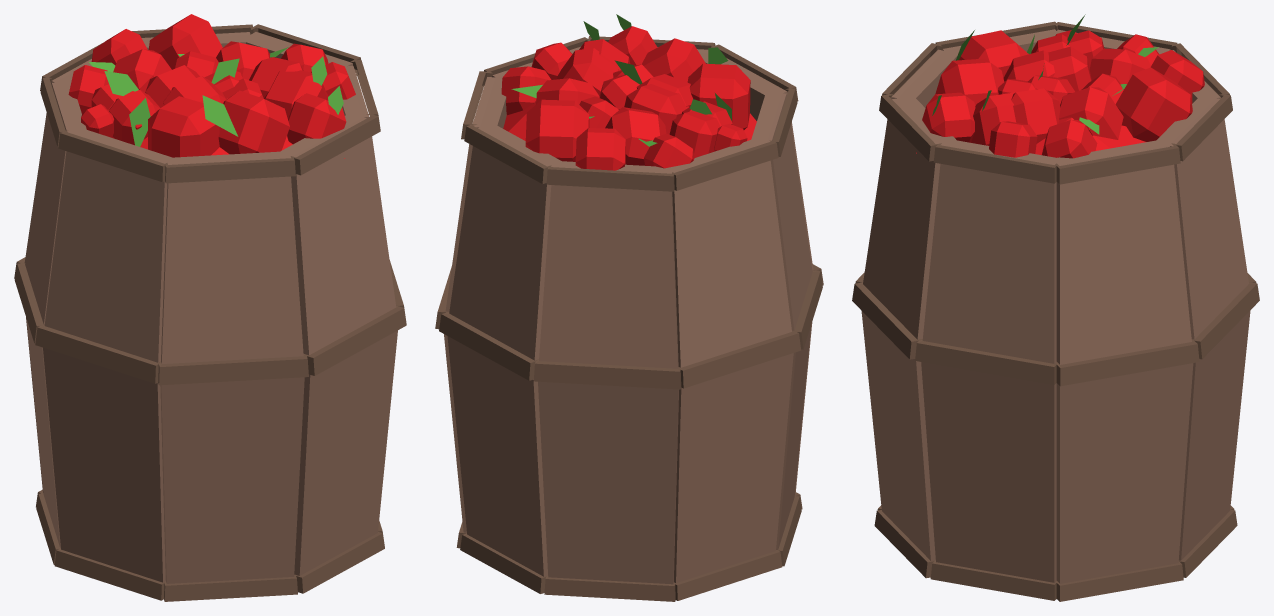
The model's file is barrel-fruit-02.obj.
The picture shows the model from 3 angles, left to right: view 1: azimuth 30°, elevation 25°; view 2: azimuth 150°, elevation 25°; view 3: azimuth 270°, elevation 25°; orthographic projection. The views are drawn at different scales.
Parts seen in each view (by area): view 1: barrel-fruit-02; view 2: barrel-fruit-02; view 3: barrel-fruit-02.
Boxes of the visible parts, x1=… form: barrel-fruit-02: x1=14, y1=14, x2=406, y2=601; barrel-fruit-02: x1=435, y1=14, x2=823, y2=601; barrel-fruit-02: x1=852, y1=14, x2=1259, y2=601.
Bounding box in the file's own units: 0.4499 × 0.5784 × 0.451.
